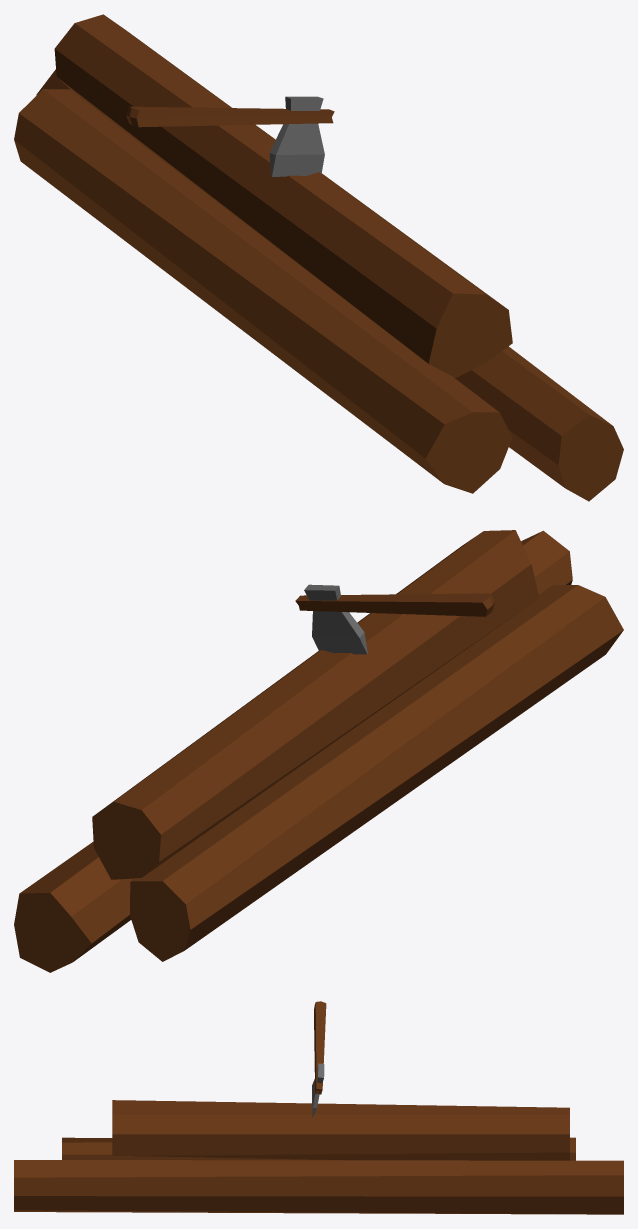
File: firewood.fbx
The picture shows the model from 3 angles, top to bottom: view 1: azimuth 30°, elevation 25°; view 2: azimuth 150°, elevation 25°; view 3: azimuth 270°, elevation 25°; orthographic projection. The views are drawn at different scales.
Visible parts, largest first — view 1: firewood, hatchets; view 2: firewood, hatchets; view 3: firewood, hatchets.
Boxes of the visible parts, x1,y1,x2,y2 form: firewood: [14, 14, 623, 501]; hatchets: [126, 96, 334, 176]; firewood: [14, 530, 623, 972]; hatchets: [295, 584, 494, 654]; firewood: [14, 1100, 623, 1214]; hatchets: [312, 1001, 326, 1117].
Size of the model in its own units: 136 by 139 by 497.
